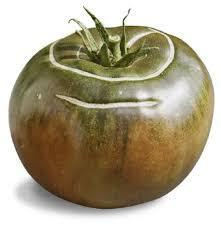tomato late blight: (9, 17, 214, 211)
